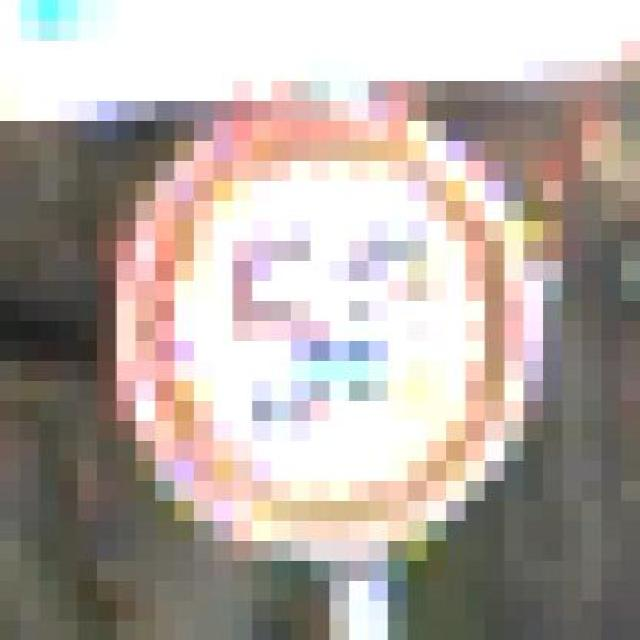50 mph speed limit: (97, 80, 563, 580)
